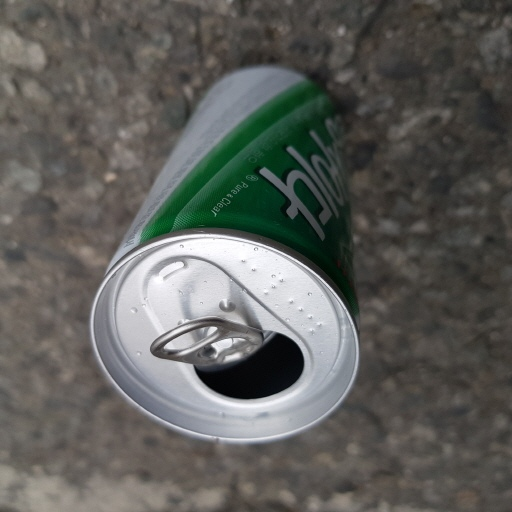Metal_0: (86, 67, 364, 449)
